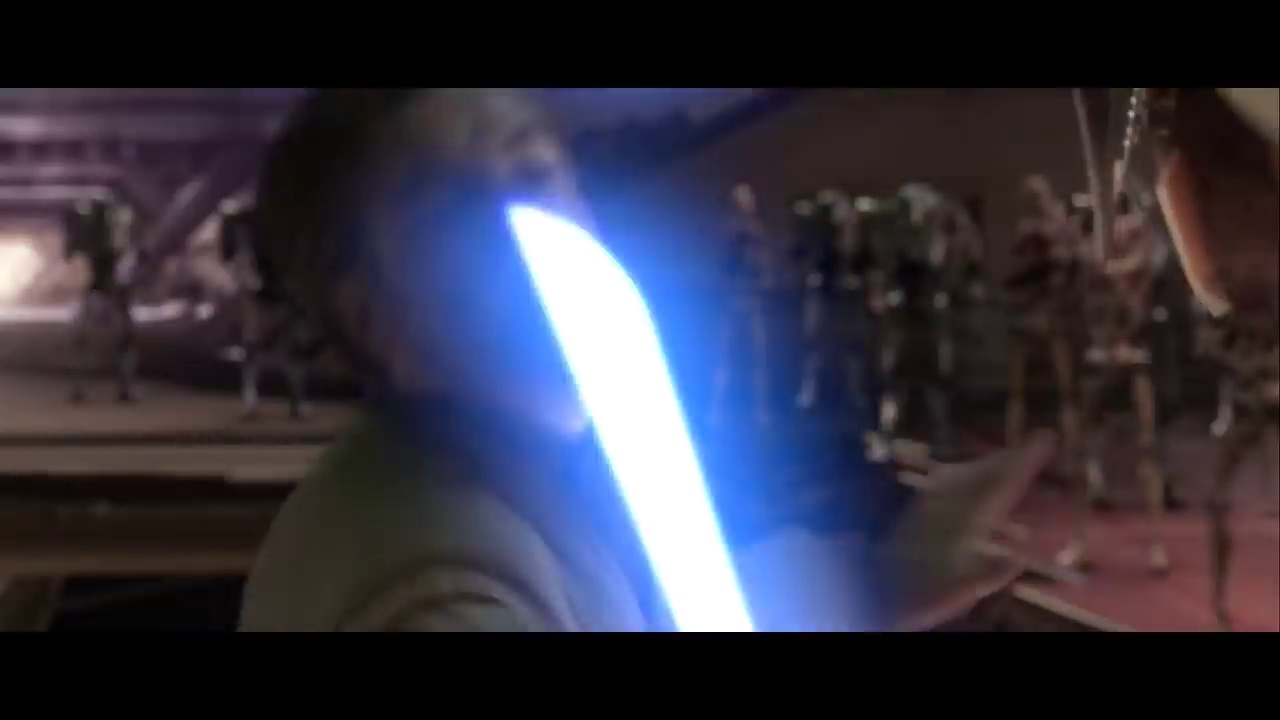lightsaber: (489, 204, 771, 630)
